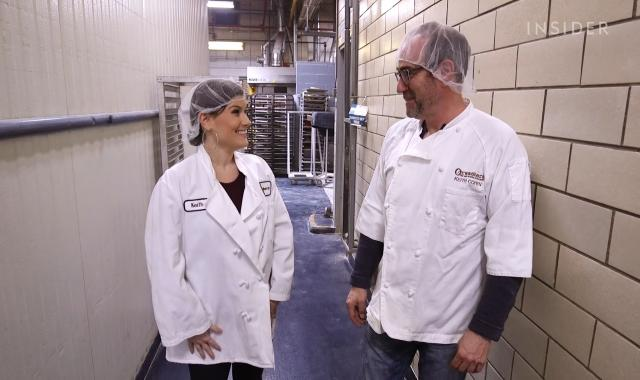hairnet: (398, 21, 473, 95), (177, 80, 251, 140)
